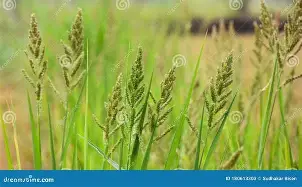weed: (0, 1, 301, 169)
